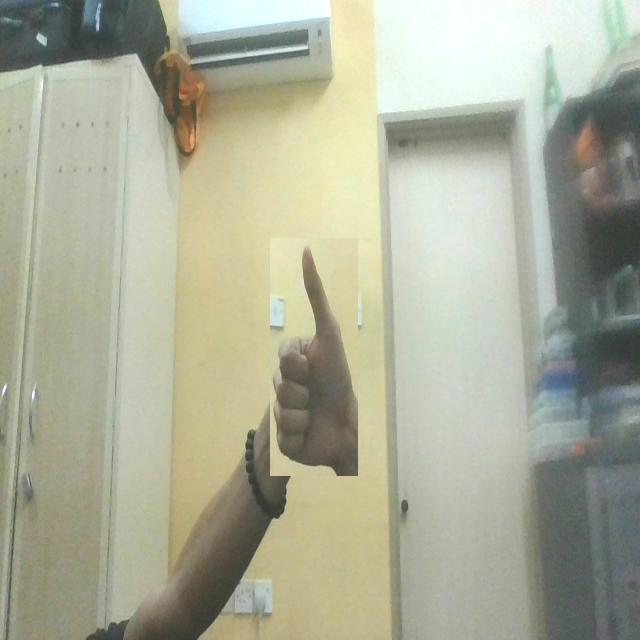thumbs up: (270, 238, 358, 476)
